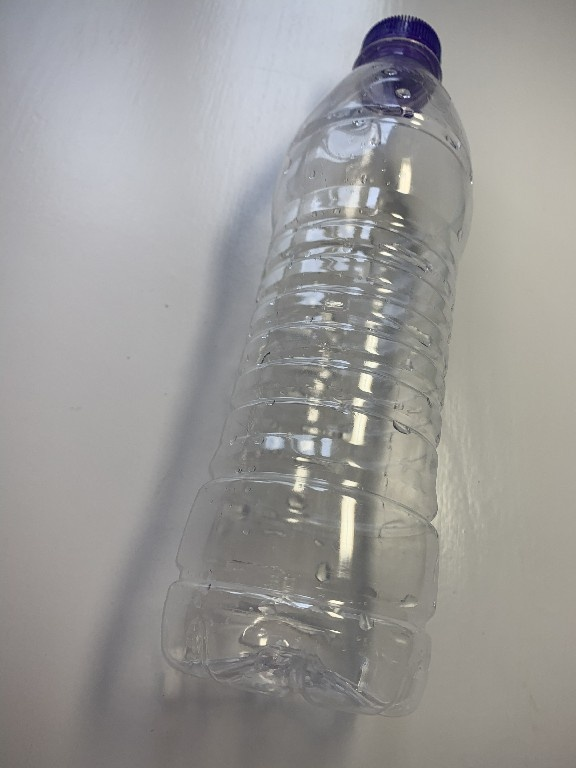bottle: (152, 9, 480, 722)
